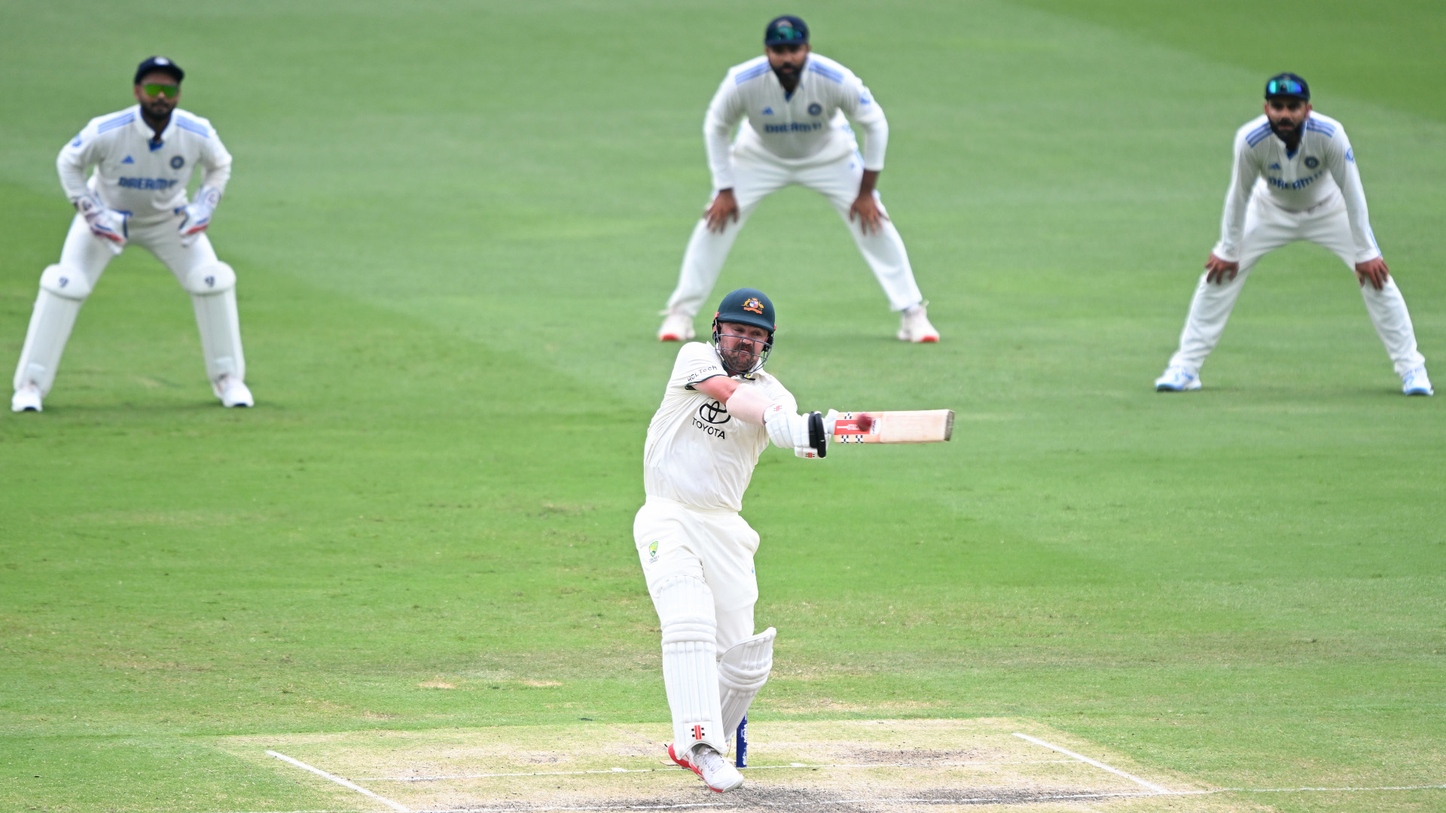Pullshot: (300, 3, 1051, 813)
